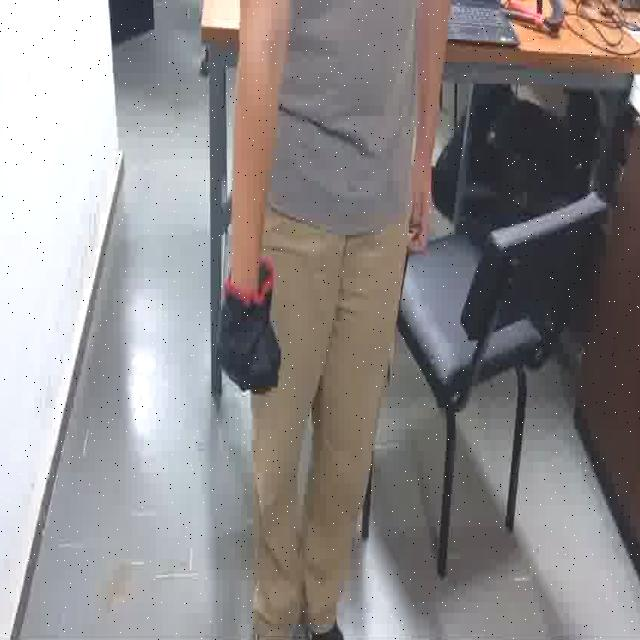Gloves: (205, 256, 288, 396)
